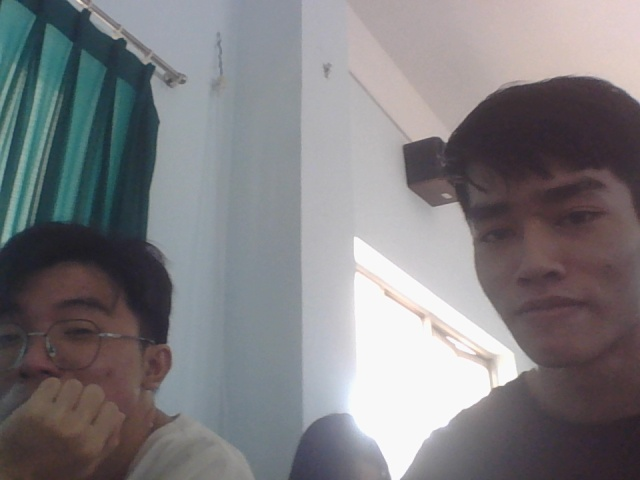real: (449, 52, 640, 386), (0, 197, 196, 475)
